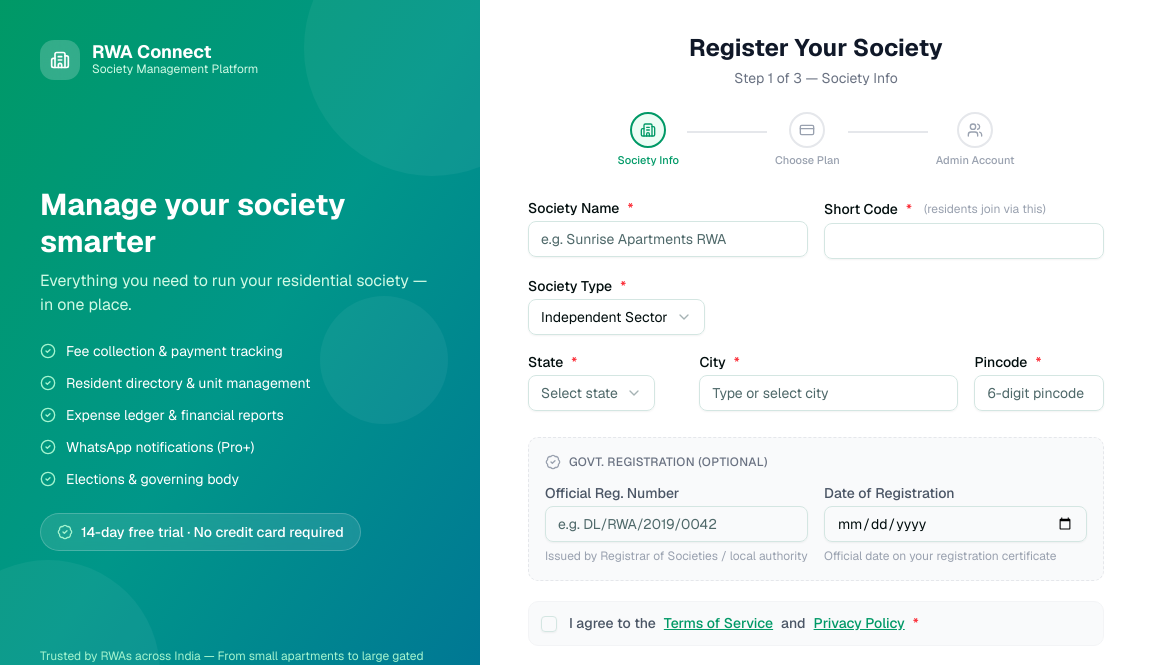
RegisterSocietyPage › shows code-taken message when code check returns unavailable
Type "EDEN" into the field labelled "Short Code * (residents join via this)" at (964, 240), box 824,222 -> 1104,258
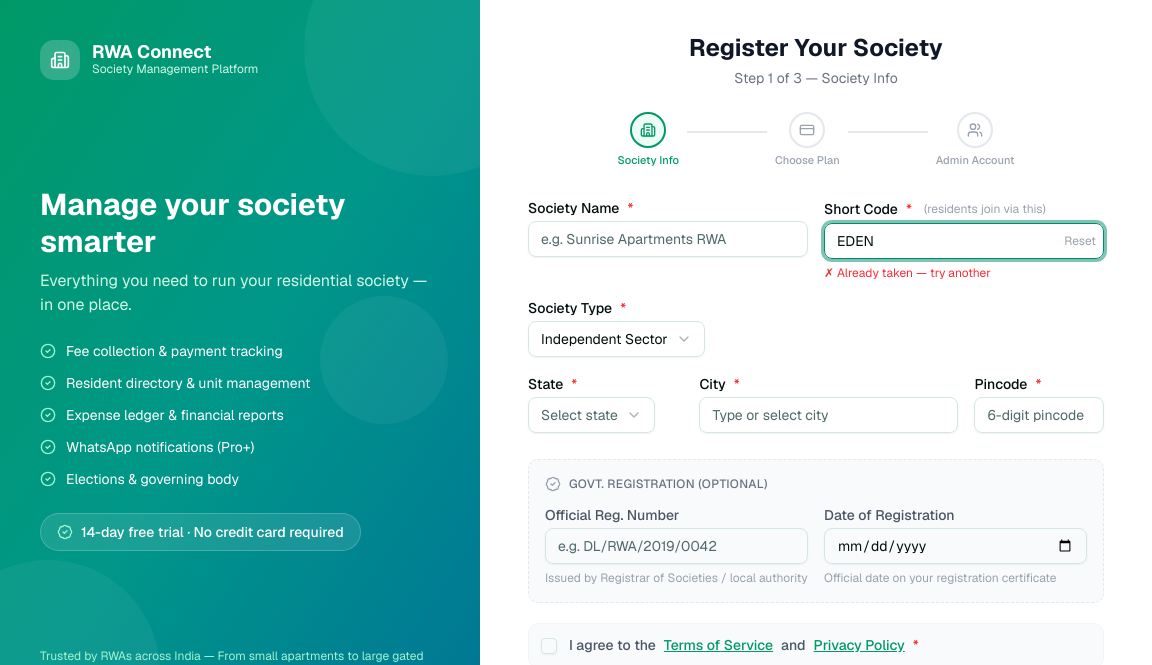
Result: the text "✗ Already taken — try another" is shown at 824,264 -> 991,280
